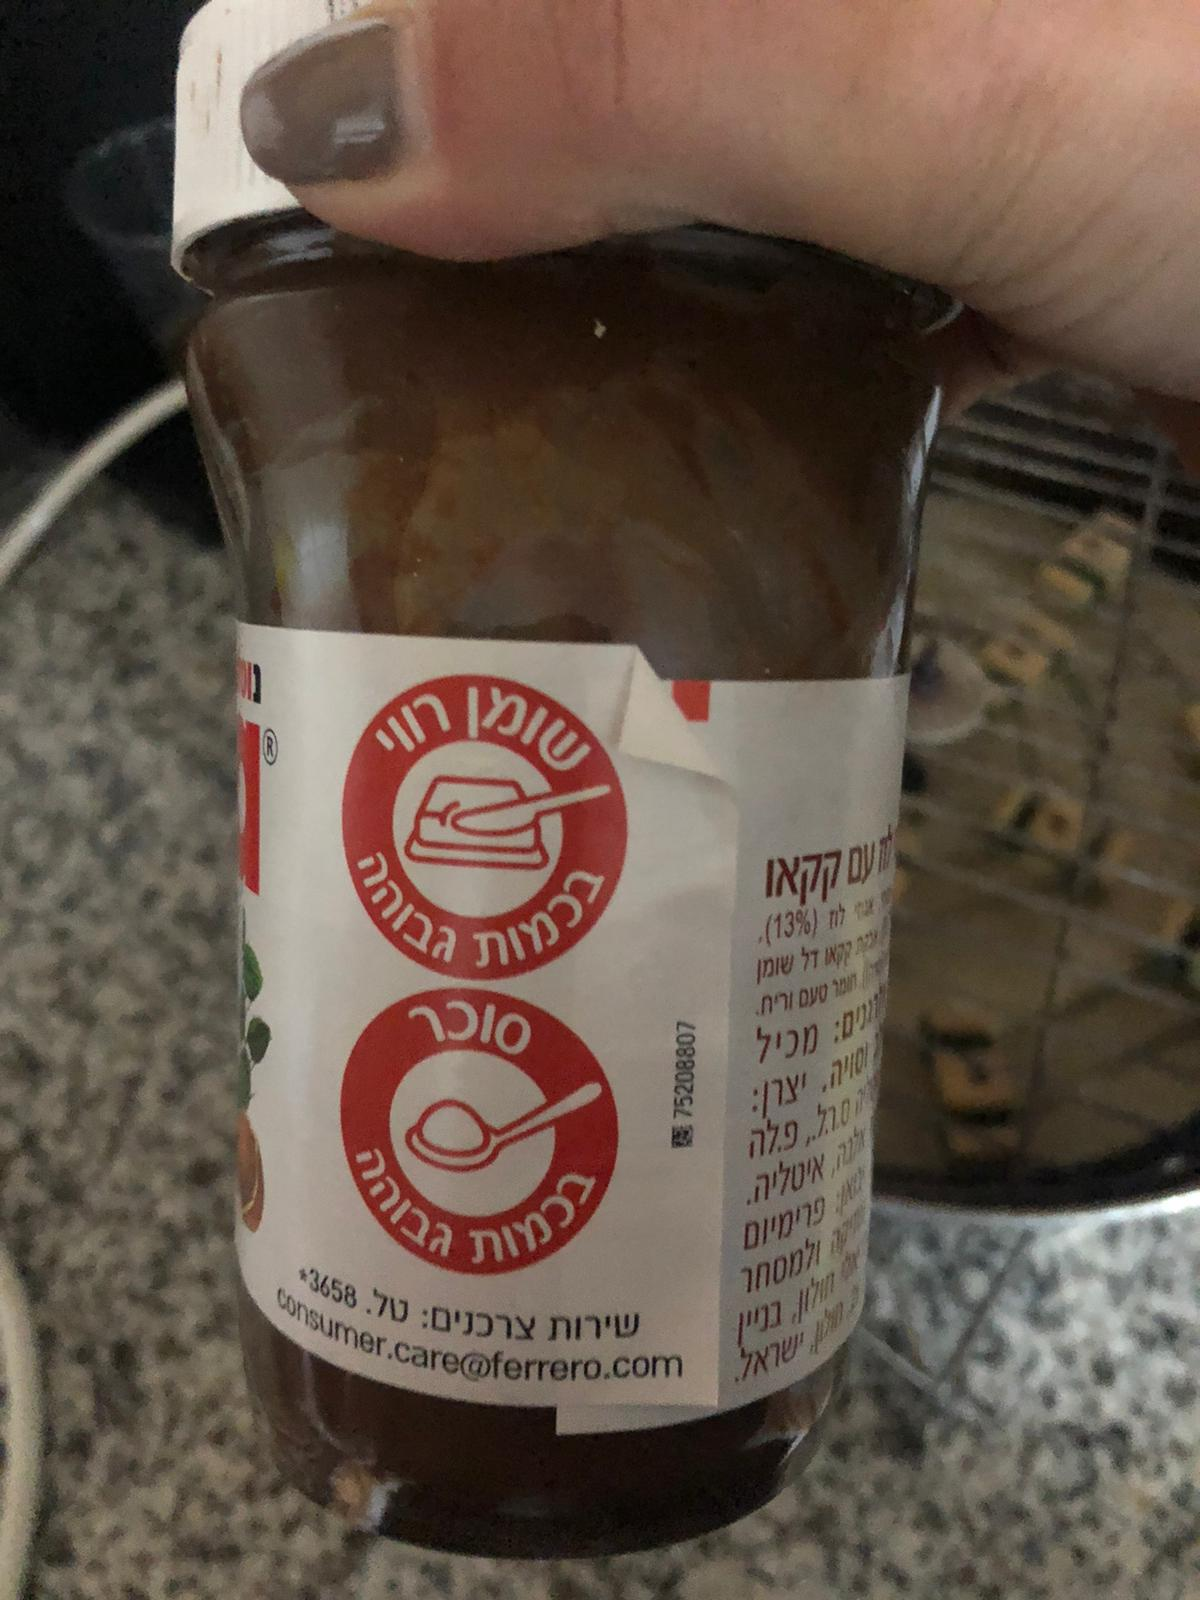fat: (342, 677, 632, 981)
sugar: (337, 988, 621, 1276)
